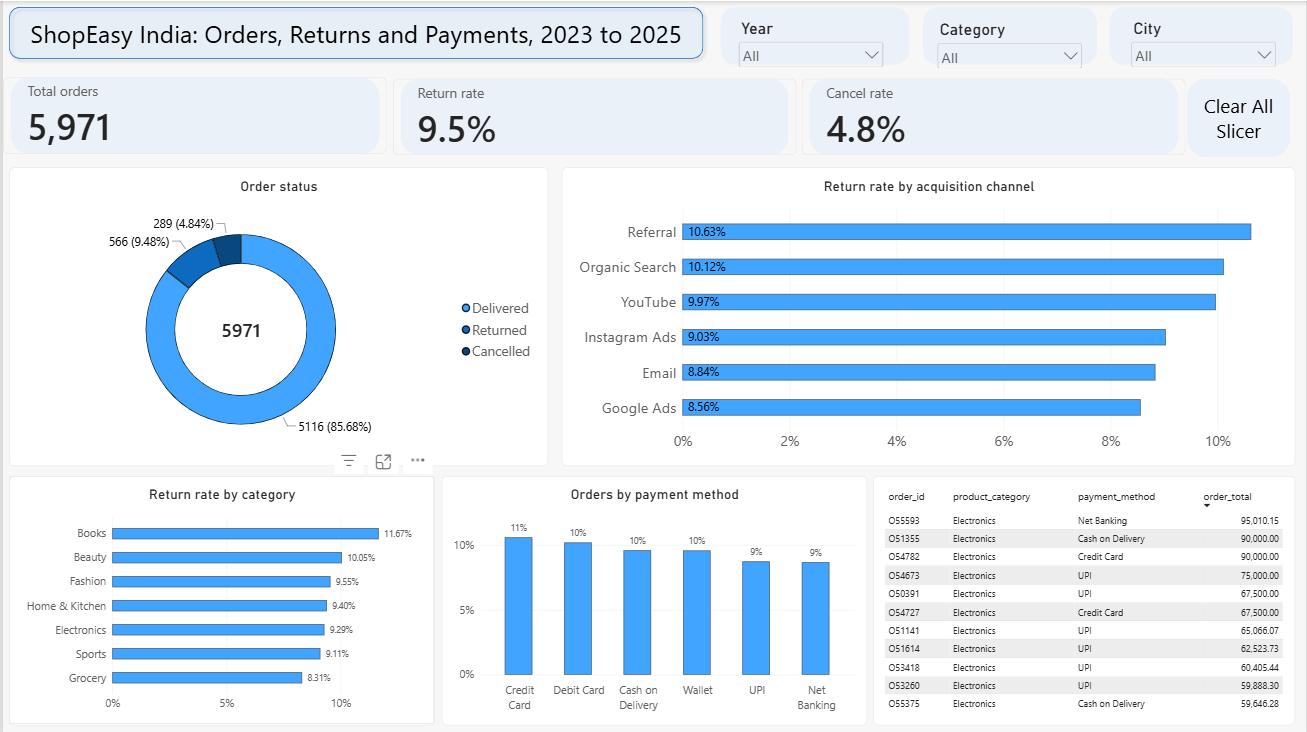

What the dashboard file says about the page in this screenshot:
{"tool":"powerbi","page":{"name":"Page 3","canvas":[1920,1080],"ordinal":2},"visuals":[{"type":"shape","box":[0,0,1039.9,93.9],"z":0},{"type":"group","id":"g1","title":"Group 1","box":[1056,8.3,843.1,84.8],"z":0,"group":"g2"},{"type":"shape","box":[1056,8.3,278.4,84.8],"z":0,"group":"g1"},{"type":"slicer","fields":{"Values":["public orders.order_date.Variation.Date Hierarchy.Year"]},"box":[1078.9,24.1,222.9,70.2],"z":0,"group":"g3"},{"type":"shape","box":[10.8,112.7,543.8,113.5],"z":0,"group":"g4"},{"type":"shape","box":[585.3,114.8,571.6,113.5],"z":0,"group":"g6"},{"type":"shape","box":[1187.7,114.8,543.8,113.5],"z":0,"group":"g7"},{"type":"group","id":"g2","title":"Group 6","box":[1056,8.3,843.1,87.7],"z":1000},{"type":"shape","box":[1354.5,8.3,256.2,84.8],"z":1000,"group":"g1"},{"type":"group","id":"g3","title":"Group 2","box":[1078.9,24.1,800.3,71.8],"z":1000,"group":"g2"},{"type":"slicer","fields":{"Values":["public orders.product_category"]},"box":[1371,25.7,222.9,70.2],"z":1000,"group":"g3"},{"type":"cardVisual","fields":{"Data":["Count(public orders.order_id)"]},"box":[0,112.7,565.4,113.5],"z":1000,"group":"g4"},{"type":"cardVisual","fields":{"Data":["public orders.Return Order Rate"]},"box":[574,114.8,594.2,113.5],"z":1000,"group":"g6"},{"type":"cardVisual","fields":{"Data":["public orders.Cancel Order Rate"]},"box":[1176.9,114.8,565.4,113.5],"z":1000,"group":"g7"},{"type":"shape","box":[1628.8,8.3,270.3,84.8],"z":2000,"group":"g1"},{"type":"slicer","fields":{"Values":["public customers.city"]},"box":[1656.2,24.3,222.9,70.2],"z":2000,"group":"g3"},{"type":"group","id":"g4","title":"Group 5","box":[0,112.7,564.4,113.9],"z":2000,"group":"g5"},{"type":"group","id":"g5","title":"Group 3","box":[0,112.7,1742.6,116.9],"z":2000},{"type":"group","id":"g6","title":"Group 5","box":[574,114.8,595.1,113.9],"z":3000,"group":"g5"},{"type":"donutChart","title":"Order status","fields":{"Category":["public orders.order_status"],"Y":["CountNonNull(public orders.order_id)"]},"box":[9.2,244.8,793.3,439.9],"z":3000},{"type":"group","id":"g7","title":"Group 5","box":[1176.9,114.8,564.4,113.9],"z":4000,"group":"g5"},{"type":"barChart","title":"Return rate by acquisition channel","fields":{"Category":["public customers.acquisition_channel"],"Y":["public orders.Return Order Rate"]},"box":[822.7,244.8,1080.4,439.9],"z":4000},{"type":"barChart","title":"Return rate by category","fields":{"Category":["public orders.product_category"],"Y":["public orders.Return Order Rate"]},"box":[8.3,699.1,626.1,367.3],"z":5000},{"type":"columnChart","title":"Orders by payment method","fields":{"Category":["public orders.payment_method"],"Y":["public orders.Return Order Rate"]},"box":[646,699.4,626.1,367.3],"z":6000},{"type":"tableEx","fields":{"Values":["public orders.order_id","public orders.product_category","public orders.payment_method","public orders.order_total"]},"box":[1281.4,699.1,621.9,367.3],"z":7000},{"type":"shape","box":[1742.6,114.8,152.8,116],"z":7001}]}

Visuals, with their boxes in screenshot pixels (x1, y1, x2, y2), scaled from the page's 1920x1080 canvas onto the 1307x732 screenshot:
shape: detection(0, 0, 708, 64)
"Group 1" group: detection(719, 6, 1293, 63)
shape: detection(719, 6, 908, 63)
slicer - public orders.order_date.Variation.Date Hierarchy.Year: detection(734, 16, 886, 64)
shape: detection(7, 76, 378, 153)
shape: detection(398, 78, 788, 155)
shape: detection(809, 78, 1179, 155)
"Group 6" group: detection(719, 6, 1293, 65)
shape: detection(922, 6, 1096, 63)
"Group 2" group: detection(734, 16, 1279, 65)
slicer - public orders.product_category: detection(933, 17, 1085, 65)
cardVisual - Count(public orders.order_id): detection(0, 76, 385, 153)
cardVisual - public orders.Return Order Rate: detection(391, 78, 795, 155)
cardVisual - public orders.Cancel Order Rate: detection(801, 78, 1186, 155)
shape: detection(1109, 6, 1293, 63)
slicer - public customers.city: detection(1127, 16, 1279, 64)
"Group 5" group: detection(0, 76, 384, 154)
"Group 3" group: detection(0, 76, 1186, 156)
"Group 5" group: detection(391, 78, 796, 155)
"Order status" donutChart: detection(6, 166, 546, 464)
"Group 5" group: detection(801, 78, 1185, 155)
"Return rate by acquisition channel" barChart: detection(560, 166, 1295, 464)
"Return rate by category" barChart: detection(6, 474, 432, 723)
"Orders by payment method" columnChart: detection(440, 474, 866, 723)
tableEx - public orders.order_id x public orders.product_category: detection(872, 474, 1296, 723)
shape: detection(1186, 78, 1290, 156)
